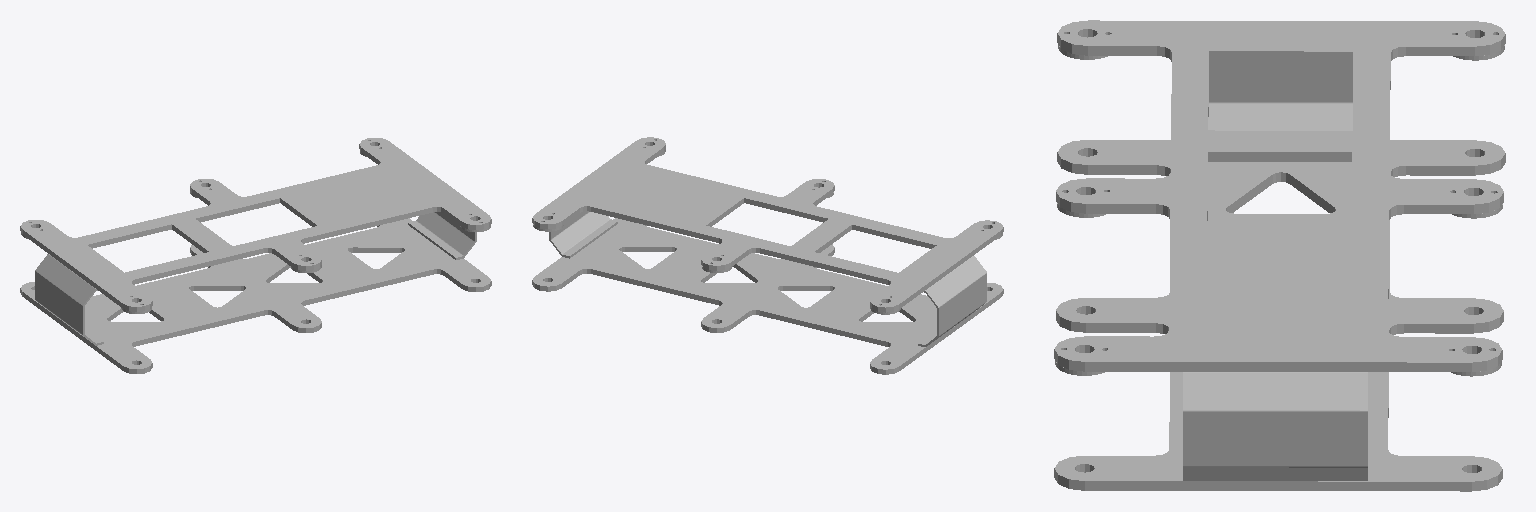
The robot description file, URDF, robot "alb5_description":
<robot
  name="alb5_description">
  <link
    name="universal_base">
    <inertial>
      <origin
        xyz="-0.053039 -0.00017356 0.025812"
        rpy="0 0 0" />
      <mass
        value="0.047047" />
      <inertia
        ixx="5.2284E-05"
        ixy="-3.601E-07"
        ixz="6.855E-08"
        iyy="5.2284E-05"
        iyz="-6.855E-08"
        izz="8.6172E-05" />
    </inertial>
    <visual>
      <origin
        xyz="0 0 0"
        rpy="0 0 0" />
      <geometry>
        <mesh
          filename="package://alb5_description/meshes/universal_base.STL" />
      </geometry>
      <material
        name="">
        <color
          rgba="0.50196 0.50196 0.50196 1" />
      </material>
    </visual>
    <collision>
      <origin
        xyz="0 0 0"
        rpy="0 0 0" />
      <geometry>
        <mesh
          filename="package://alb5_description/meshes/universal_base.STL" />
      </geometry>
    </collision>
  </link>
  <link
    name="base_link">
    <inertial>
      <origin
        xyz="-0.012308 -0.0014042 0.014799"
        rpy="0 0 0" />
      <mass
        value="0.12174" />
      <inertia
        ixx="5.1598E-05"
        ixy="3.9703E-07"
        ixz="-7.2302E-06"
        iyy="6.5945E-05"
        iyz="4.1623E-07"
        izz="8.4968E-05" />
    </inertial>
    <visual>
      <origin
        xyz="0 0 0"
        rpy="0 0 0" />
      <geometry>
        <mesh
          filename="package://alb5_description/meshes/base_link.STL" />
      </geometry>
      <material
        name="">
        <color
          rgba="0.75294 0.75294 0.75294 1" />
      </material>
    </visual>
    <collision>
      <origin
        xyz="0 0 0"
        rpy="0 0 0" />
      <geometry>
        <mesh
          filename="package://alb5_description/meshes/base_link.STL" />
      </geometry>
    </collision>
  </link>
  <joint
    name="base"
    type="revolute">
    <origin
      xyz="-0.053555 0.00068715 0.046204"
      rpy="4.062E-16 -3.2449E-16 -0.004055" />
    <parent
      link="universal_base" />
    <child
      link="base_link" />
    <axis
      xyz="0 0 -1" />
    <limit
      lower="-1.57"
      upper="1.57"
      effort="1"
      velocity="1.5" />
    <dynamics
      damping="0.7"
      friction="0" />
  </joint>
  <link
    name="shoulder_link">
    <inertial>
      <origin
        xyz="-0.0015504 0.066726 -0.0019391"
        rpy="0 0 0" />
      <mass
        value="0.015039" />
      <inertia
        ixx="2.9539E-05"
        ixy="-4.2683E-07"
        ixz="3.3289E-08"
        iyy="1.1162E-05"
        iyz="-1.4327E-06"
        izz="1.9883E-05" />
    </inertial>
    <visual>
      <origin
        xyz="0 0 0"
        rpy="0 0 0" />
      <geometry>
        <mesh
          filename="package://alb5_description/meshes/shoulder_link.STL" />
      </geometry>
      <material
        name="">
        <color
          rgba="0.79608 0.82353 0.93725 1" />
      </material>
    </visual>
    <collision>
      <origin
        xyz="0 0 0"
        rpy="0 0 0" />
      <geometry>
        <mesh
          filename="package://alb5_description/meshes/shoulder_link.STL" />
      </geometry>
    </collision>
  </link>
  <joint
    name="Shoulder"
    type="revolute">
    <origin
      xyz="-0.0013006 -0.0003321 0.02048"
      rpy="1.5708 2.6767E-16 8.3288E-16" />
    <parent
      link="base_link" />
    <child
      link="shoulder_link" />
    <axis
      xyz="0 0 1" />
    <limit
      lower="-1.57"
      upper="1.57"
      effort="1"
      velocity="1.5" />
    <dynamics
      damping="0.7"
      friction="0" />
  </joint>
  <link
    name="elbow_link">
    <inertial>
      <origin
        xyz="0.01584 0.00056335 0.0069996"
        rpy="0 0 0" />
      <mass
        value="0.08291" />
      <inertia
        ixx="1.8847E-05"
        ixy="6.7903E-06"
        ixz="7.2747E-06"
        iyy="7.2777E-05"
        iyz="7.1257E-07"
        izz="7.3916E-05" />
    </inertial>
    <visual>
      <origin
        xyz="0 0 0"
        rpy="0 0 0" />
      <geometry>
        <mesh
          filename="package://alb5_description/meshes/elbow_link.STL" />
      </geometry>
      <material
        name="">
        <color
          rgba="0.86667 0.9098 1 1" />
      </material>
    </visual>
    <collision>
      <origin
        xyz="0 0 0"
        rpy="0 0 0" />
      <geometry>
        <mesh
          filename="package://alb5_description/meshes/elbow_link.STL" />
      </geometry>
    </collision>
  </link>
  <joint
    name="elbow"
    type="revolute">
    <origin
      xyz="-0.0027664 0.11906 -0.0006096"
      rpy="3.7093E-16 -8.4329E-16 1.5056E-31" />
    <parent
      link="shoulder_link" />
    <child
      link="elbow_link" />
    <axis
      xyz="0 0 1" />
    <limit
      lower="-0.75"
      upper="0.75"
      effort="1"
      velocity="1.5" />
    <dynamics
      damping="0.7"
      friction="0" />
  </joint>
  <link
    name="elbow_twist_link">
    <inertial>
      <origin
        xyz="-0.0029382 -0.0011646 0.029402"
        rpy="0 0 0" />
      <mass
        value="0.043897" />
      <inertia
        ixx="1.1596E-05"
        ixy="2.7053E-07"
        ixz="-1.2029E-07"
        iyy="1.4755E-05"
        iyz="4.2449E-07"
        izz="8.1303E-06" />
    </inertial>
    <visual>
      <origin
        xyz="0 0 0"
        rpy="0 0 0" />
      <geometry>
        <mesh
          filename="package://alb5_description/meshes/elbow_twist_link.STL" />
      </geometry>
      <material
        name="">
        <color
          rgba="0.86667 0.9098 1 1" />
      </material>
    </visual>
    <collision>
      <origin
        xyz="0 0 0"
        rpy="0 0 0" />
      <geometry>
        <mesh
          filename="package://alb5_description/meshes/elbow_twist_link.STL" />
      </geometry>
    </collision>
  </link>
  <joint
    name="elbow_twist"
    type="revolute">
    <origin
      xyz="0.069255 -0.0051558 0.008392"
      rpy="1.5825 1.5699 1.5825" />
    <parent
      link="elbow_link" />
    <child
      link="elbow_twist_link" />
    <axis
      xyz="0 0.011666 0.99993" />
    <limit
      lower="-1.57"
      upper="1.57"
      effort="1"
      velocity="1.5" />
    <dynamics
      damping="0.7"
      friction="0" />
  </joint>
  <link
    name="wrist_link">
    <inertial>
      <origin
        xyz="0.040115 0.00057387 0.0042724"
        rpy="0 0 0" />
      <mass
        value="0.052802" />
      <inertia
        ixx="1.6016E-05"
        ixy="5.3882E-07"
        ixz="3.1332E-06"
        iyy="3.0982E-05"
        iyz="1.0799E-07"
        izz="2.0485E-05" />
    </inertial>
    <visual>
      <origin
        xyz="0 0 0"
        rpy="0 0 0" />
      <geometry>
        <mesh
          filename="package://alb5_description/meshes/wrist_link.STL" />
      </geometry>
      <material
        name="">
        <color
          rgba="0.86667 0.9098 1 1" />
      </material>
    </visual>
    <collision>
      <origin
        xyz="0 0 0"
        rpy="0 0 0" />
      <geometry>
        <mesh
          filename="package://alb5_description/meshes/wrist_link.STL" />
      </geometry>
    </collision>
  </link>
  <joint
    name="wrist"
    type="revolute">
    <origin
      xyz="-0.0001132 0.0018298 0.041117"
      rpy="1.5708 -1.5708 -1.5708" />
    <parent
      link="elbow_twist_link" />
    <child
      link="wrist_link" />
    <axis
      xyz="0 0 -1" />
    <limit
      lower="-1.57"
      upper="1.57"
      effort="1"
      velocity="1.5" />
    <dynamics
      damping="0.7"
      friction="0" />
  </joint>
  <link
    name="wrist_twist_link">
    <inertial>
      <origin
        xyz="0.0072864 0.01055 0.012663"
        rpy="0 0 0" />
      <mass
        value="0.03642" />
      <inertia
        ixx="6.4722E-06"
        ixy="1.0246E-06"
        ixz="4.7399E-08"
        iyy="8.7137E-06"
        iyz="3.6479E-08"
        izz="1.2043E-05" />
    </inertial>
    <visual>
      <origin
        xyz="0 0 0"
        rpy="0 0 0" />
      <geometry>
        <mesh
          filename="package://alb5_description/meshes/wrist_twist_link.STL" />
      </geometry>
      <material
        name="">
        <color
          rgba="0.75294 0.75294 0.75294 1" />
      </material>
    </visual>
    <collision>
      <origin
        xyz="0 0 0"
        rpy="0 0 0" />
      <geometry>
        <mesh
          filename="package://alb5_description/meshes/wrist_twist_link.STL" />
      </geometry>
    </collision>
  </link>
  <joint
    name="wrist_twist"
    type="revolute">
    <origin
      xyz="0.07439 0.0035725 0.01584"
      rpy="1.5911 1.5624 1.5911" />
    <parent
      link="wrist_link" />
    <child
      link="wrist_twist_link" />
    <axis
      xyz="0 0.020306 0.99979" />
    <limit
      lower="-1.57"
      upper="1.57"
      effort="1"
      velocity="1.5" />
    <dynamics
      damping="0.7"
      friction="0" />
  </joint>
  <link
    name="gripper_link">
    <inertial>
      <origin
        xyz="-1.012E-06 -0.0029977 -0.021704"
        rpy="0 0 0" />
      <mass
        value="0.011113" />
      <inertia
        ixx="2.3225E-06"
        ixy="1.6116E-08"
        ixz="6.4261E-08"
        iyy="6.194E-06"
        iyz="5.414E-07"
        izz="5.0431E-06" />
    </inertial>
    <visual>
      <origin
        xyz="0 0 0"
        rpy="0 0 0" />
      <geometry>
        <mesh
          filename="package://alb5_description/meshes/gripper_link.STL" />
      </geometry>
      <material
        name="">
        <color
          rgba="0.75294 0.75294 0.75294 1" />
      </material>
    </visual>
    <collision>
      <origin
        xyz="0 0 0"
        rpy="0 0 0" />
      <geometry>
        <mesh
          filename="package://alb5_description/meshes/gripper_link.STL" />
      </geometry>
    </collision>
  </link>
  <joint
    name="gripper"
    type="fixed">
    <origin
      xyz="0 0.0010906 0.053697"
      rpy="1.6941E-21 0 5.7833E-20" />
    <parent
      link="wrist_twist_link" />
    <child
      link="gripper_link" />
    <axis
      xyz="0 0 0" />
    <limit
      lower="0"
      upper="1.57"
      effort="1"
      velocity="1.5" />
    <dynamics
      damping="0.7"
      friction="0" />
  </joint>
</robot>

--- What the picture shows (computed from the rendered views, not written in the file) ---
Views: 3 orthographic renders of the robot side by side, from view 1: azimuth 30°, elevation 25°; view 2: azimuth 150°, elevation 25°; view 3: azimuth 270°, elevation 25°.
Robot: alb5_description — 8 links, 7 joints (6 revolute, 1 fixed); root link universal_base; default pose: every joint at zero.
Links seen in each view (by area): view 1: base_link; view 2: base_link; view 3: base_link.
Link boxes in pixels (<box>): base_link: <box>20,138,491,373</box>; base_link: <box>532,137,1003,374</box>; base_link: <box>1054,20,1505,491</box>.
Size in the robot's own frame: 0.3523 by 0.1831 by 0.0577 metres.
Meshes: 8 distinct files referenced, 1 mesh visuals loaded (1 binary STL); not drawn: 7 (reference not matched to a file when rendering).